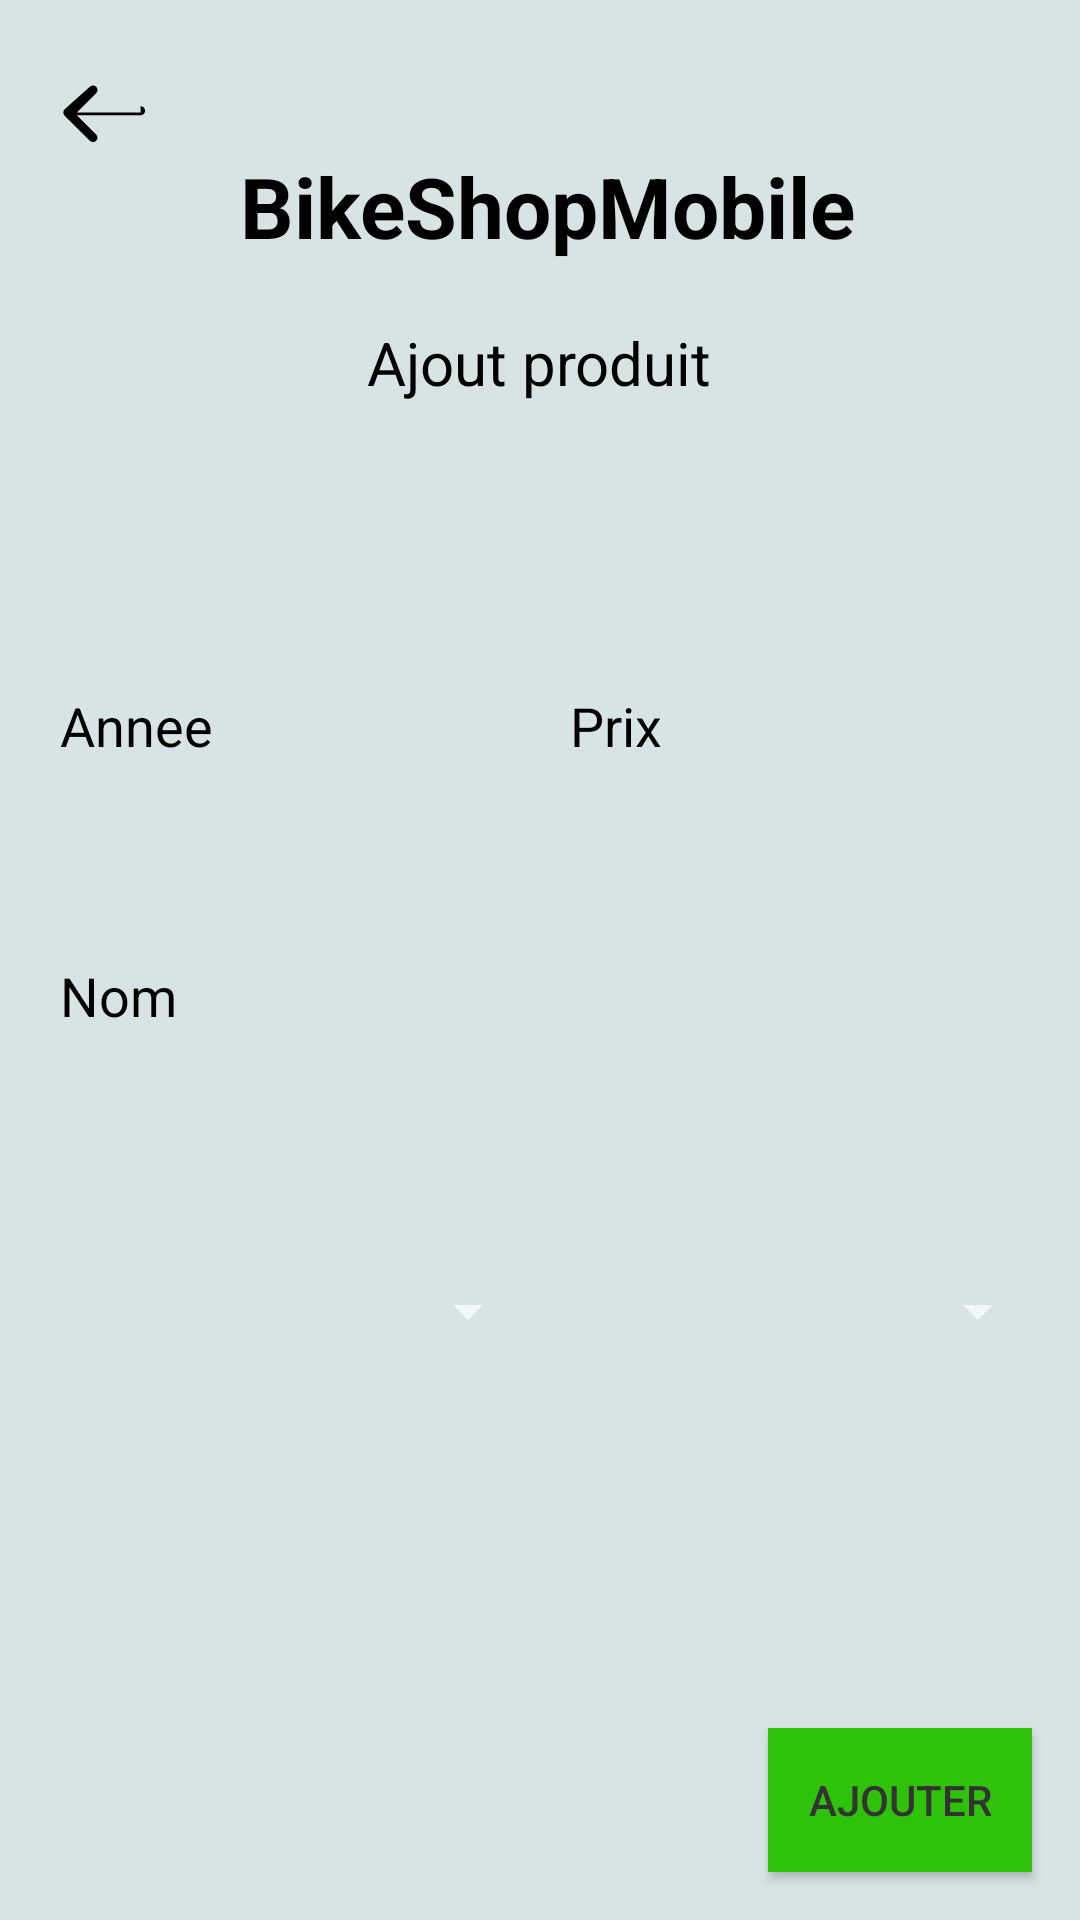

Locate icon controls on the screen. Image size 1080 x 1920, boxes as (x1, y1, x2, y2).
back: (63, 85, 145, 143)
